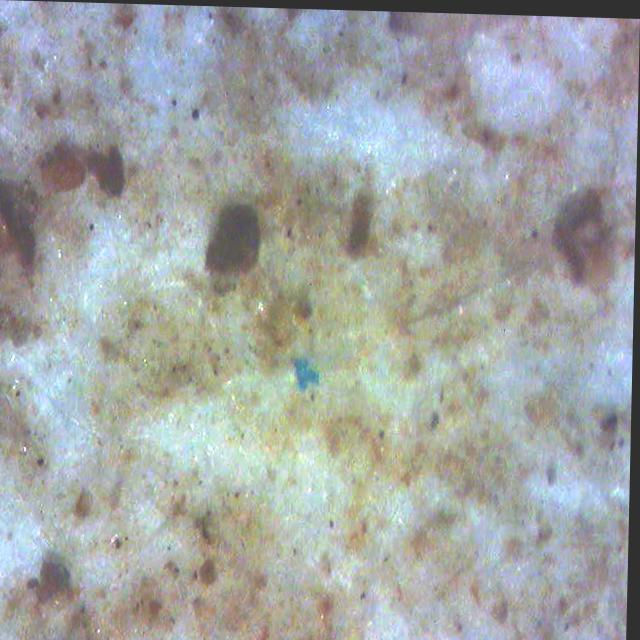microplastic: (293, 355, 321, 391)
